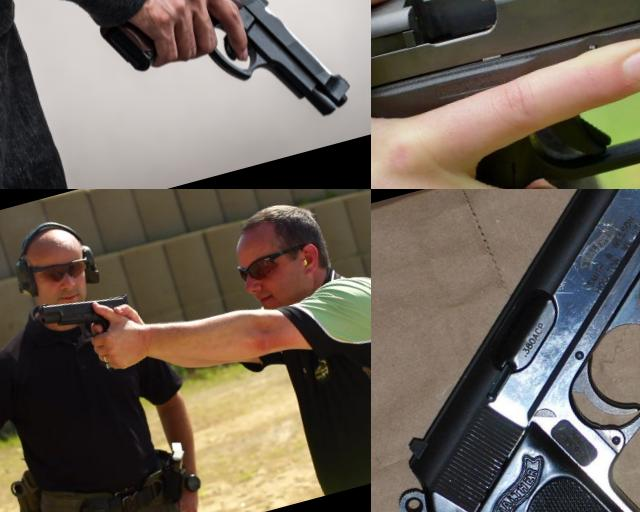handgun: (371, 189, 640, 512), (371, 0, 640, 189), (72, 0, 362, 171), (33, 278, 138, 354)
